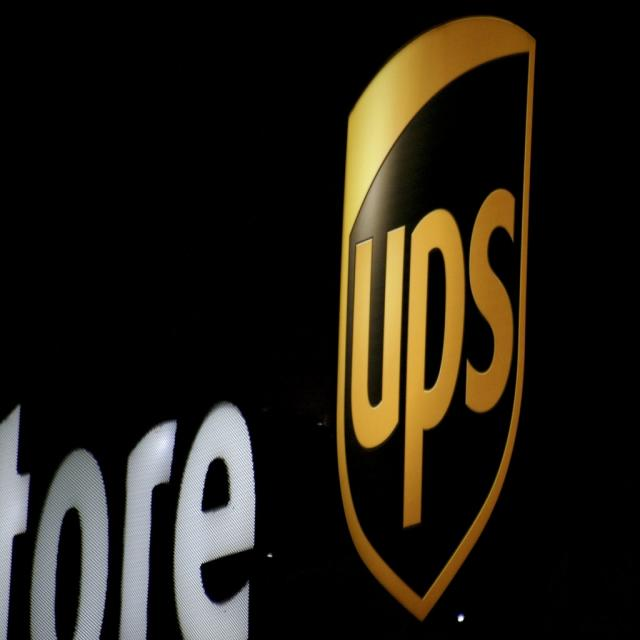ups: (336, 16, 537, 622)
